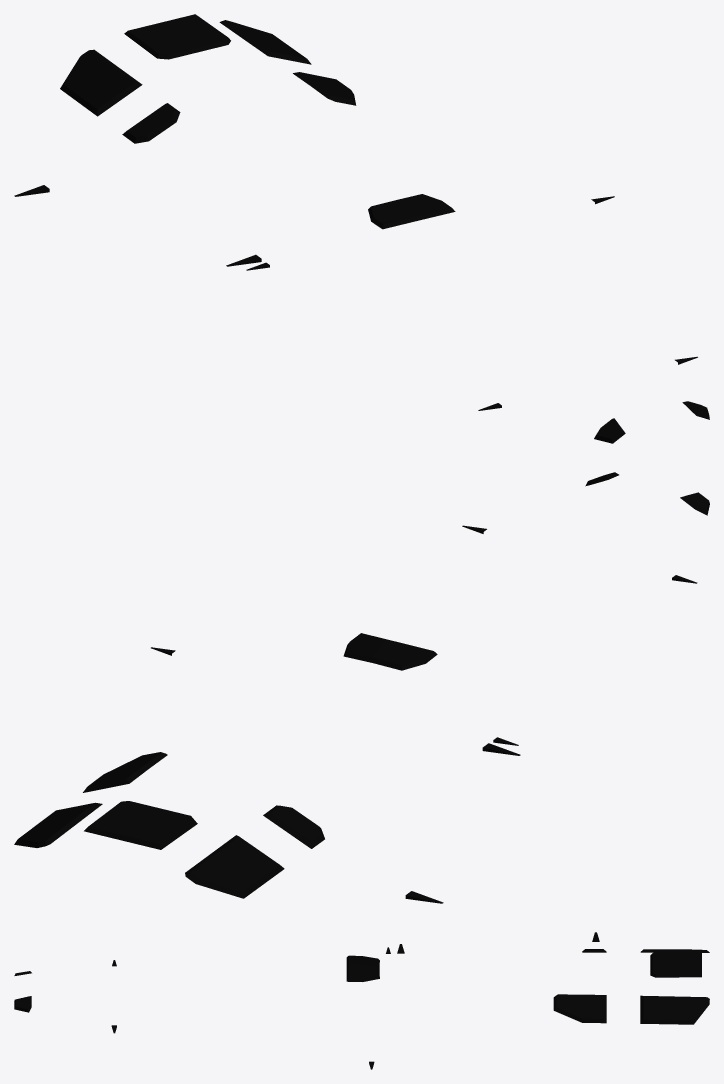
File: hgn_ion_cannon_frigate_01_t1.glb
3 views of the same model, one above another, from view 1: azimuth 30°, elevation 25°; view 2: azimuth 150°, elevation 25°; view 3: azimuth 270°, elevation 25° (orthographic). The views are drawn at different scales.
Parts seen in each view (by area): view 1: hgn_ion_cannon_frigate_01_t1_LOD0; view 2: hgn_ion_cannon_frigate_01_t1_LOD0; view 3: hgn_ion_cannon_frigate_01_t1_LOD0.
Boxes of the visible parts, bbox=[...] form: hgn_ion_cannon_frigate_01_t1_LOD0: bbox=[14, 14, 709, 443]; hgn_ion_cannon_frigate_01_t1_LOD0: bbox=[14, 472, 709, 903]; hgn_ion_cannon_frigate_01_t1_LOD0: bbox=[14, 932, 709, 1069].
Size of what is drawn, in the model's own units: 1.59 by 0.2295 by 3.2.
Materials: 1 (1 with a texture image).
